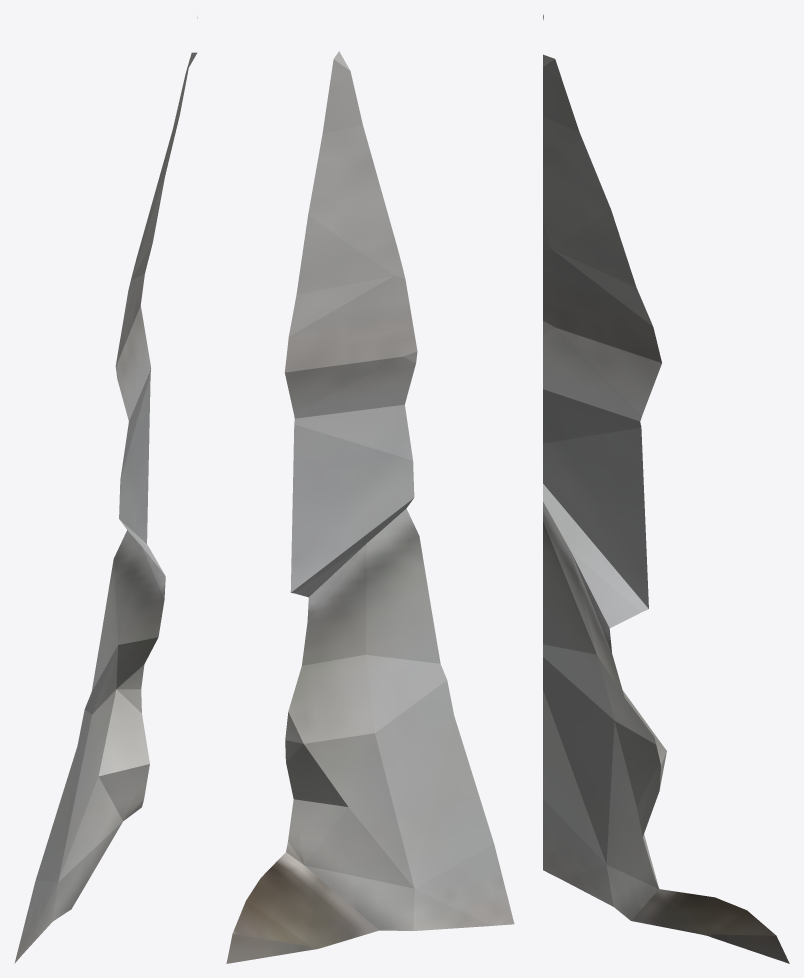
The picture shows the model from 3 angles, left to right: view 1: azimuth 30°, elevation 25°; view 2: azimuth 150°, elevation 25°; view 3: azimuth 270°, elevation 25°; orthographic projection. The views are drawn at different scales.
Size of the model in its own units: 0.0631 by 0.2984 by 0.0703.
1 material, 1 textured.
